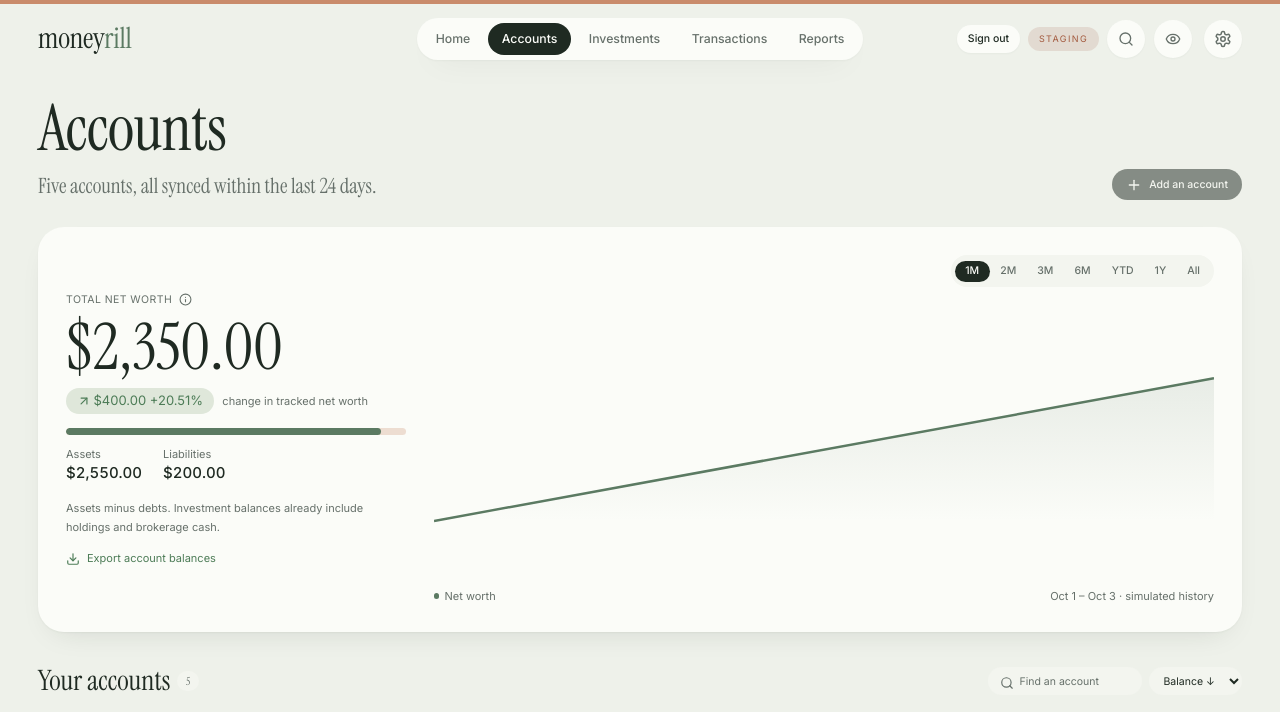
it: Transactions tab › is in the sidebar and lists transactions grouped by date with a net total per day
Expected: the text "TOTAL NET WORTH" is shown, [66, 293, 192, 306]
Click the link "Transactions": (730, 38) [692, 31, 767, 46]
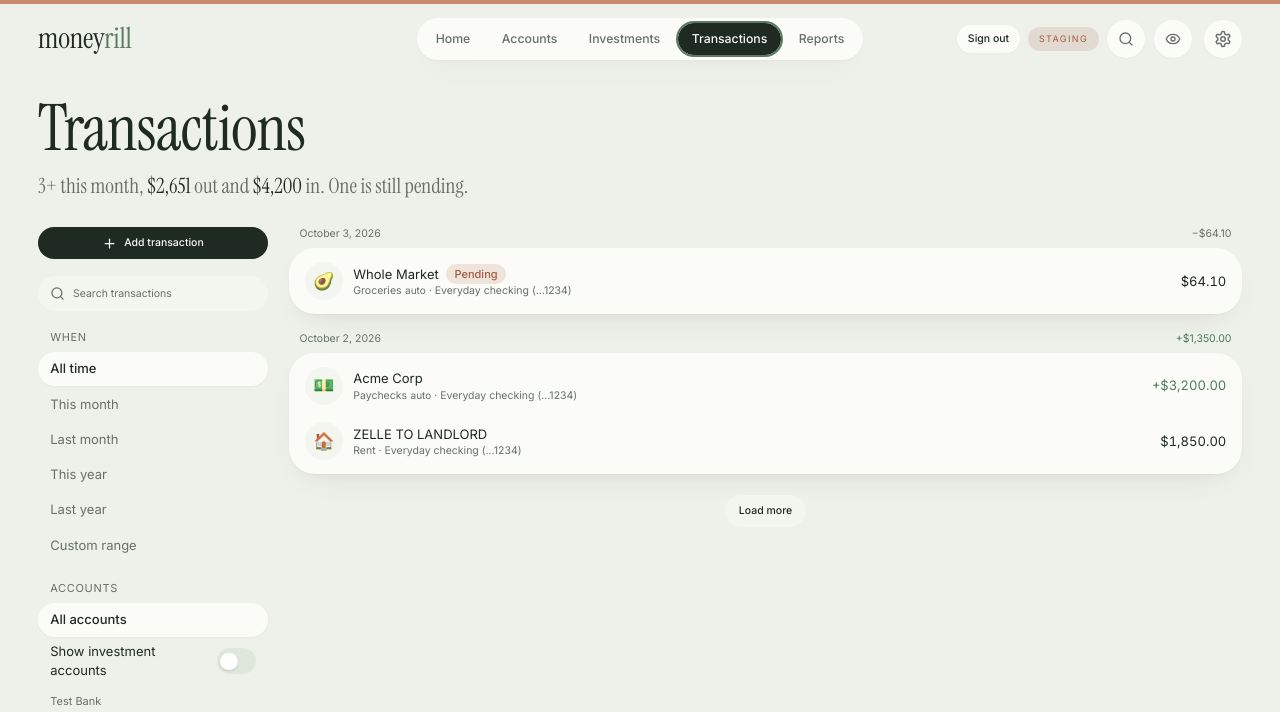
Now the text "Whole Market" is shown, box [353, 264, 439, 284]
Now the text "October 3, 2026" is shown, box [300, 227, 381, 241]
Now the text "October 2, 2026" is shown, box [300, 332, 381, 346]
